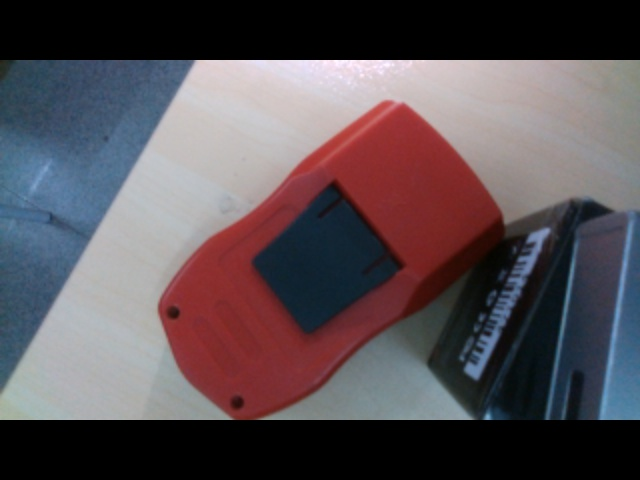Multimeter: (154, 98, 505, 421)
Screw holes: (228, 394, 246, 410), (164, 306, 183, 321)
